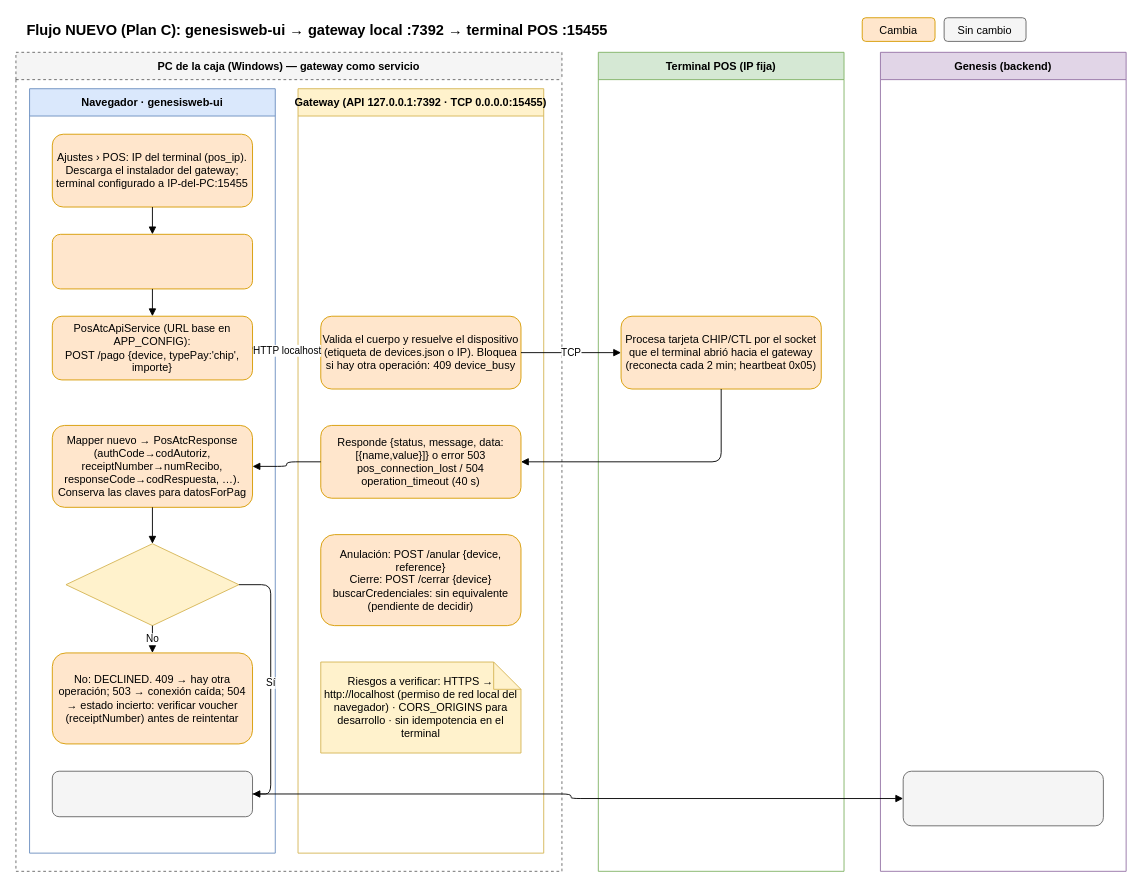
This 1142x887 diagram has some shape labels left out. Here are the shapes that lost their labels. From the top down, the centre of each, then its label:
At point 152,261: "Venta: idTrade ya no se envía al POS (decidir qué validación queda)".
At point 152,584: "status == success?".
At point 152,793: "Sí: ACCEPTED. payCartPOS con datosForPag".
At point 1002,798: "POST pagar-cuenta + polling de estado + 3 reintentos a Genesis (sin cambio)".
